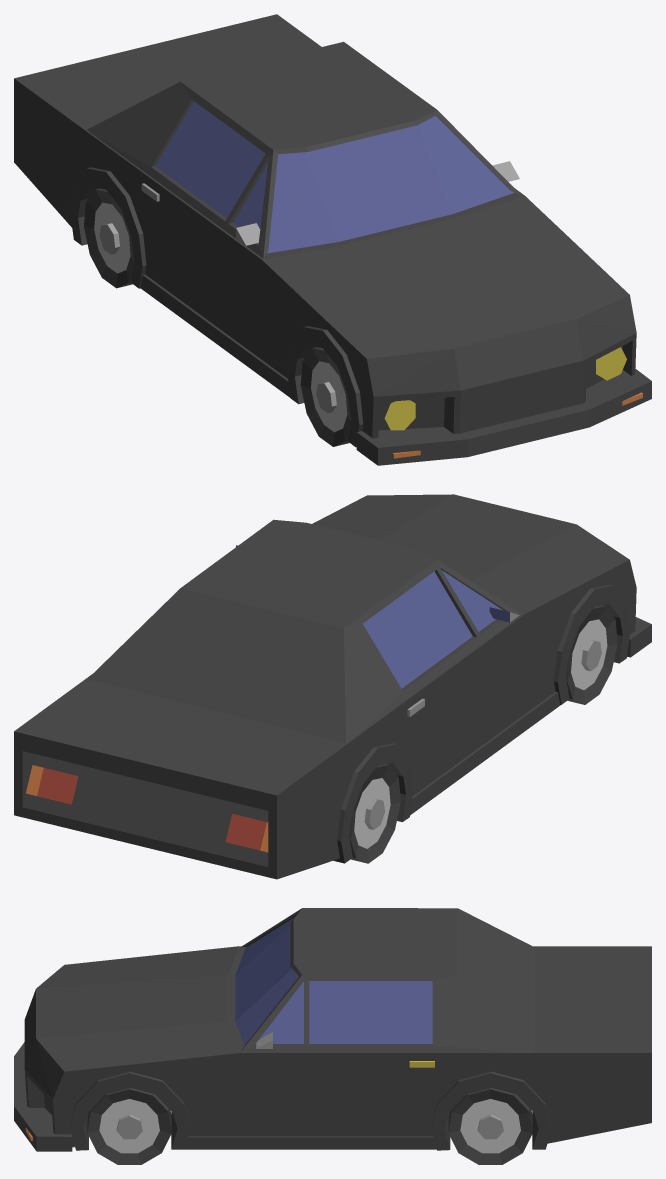
Rendered from transport_sport_006.fbx.
3 renders of one model, top to bottom at view 1: azimuth 30°, elevation 25°; view 2: azimuth 150°, elevation 25°; view 3: azimuth 270°, elevation 25°, orthographic. The views are drawn at different scales.
Parts seen in each view (by area): view 1: transport_sport_006; view 2: transport_sport_006; view 3: transport_sport_006.
Part boxes in pixels (<box>): transport_sport_006: <box>14,14,651,465</box>; transport_sport_006: <box>14,494,651,879</box>; transport_sport_006: <box>14,908,651,1164</box>.
Size of the model in its own units: 163 by 115 by 394.
